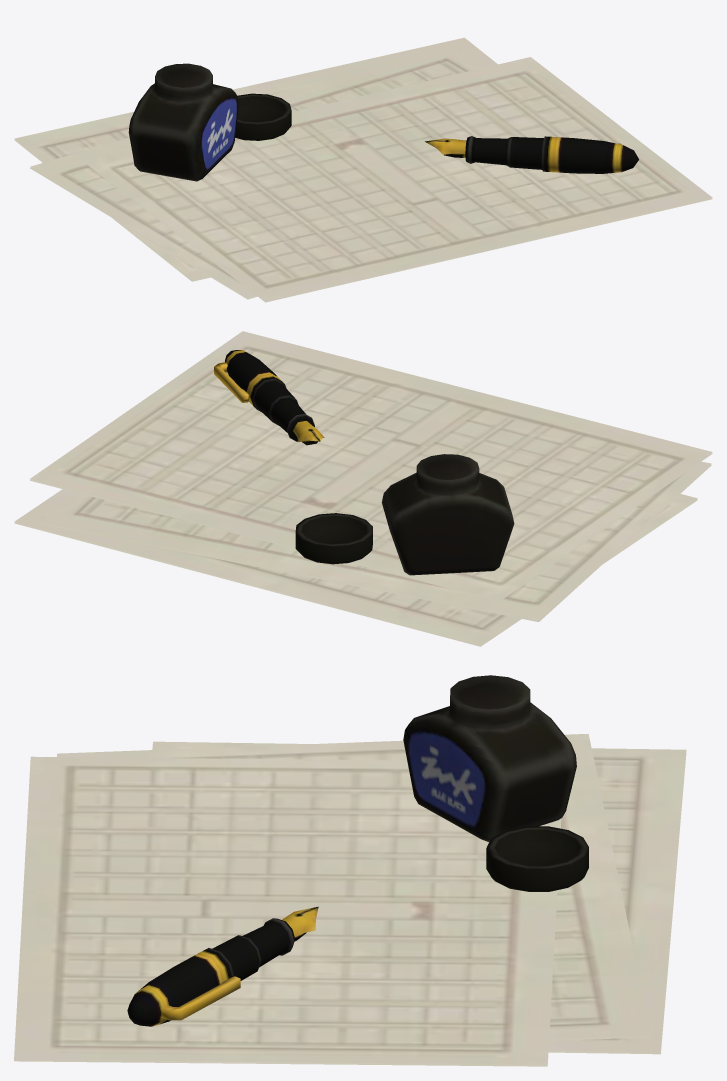
3 views of the same model, one above another, from view 1: azimuth 30°, elevation 25°; view 2: azimuth 150°, elevation 25°; view 3: azimuth 270°, elevation 25° (orthographic). The views are drawn at different scales.
Size of the model in its own units: 9.23 by 1.65 by 8.18.
Materials: 2 (2 with a texture image).
